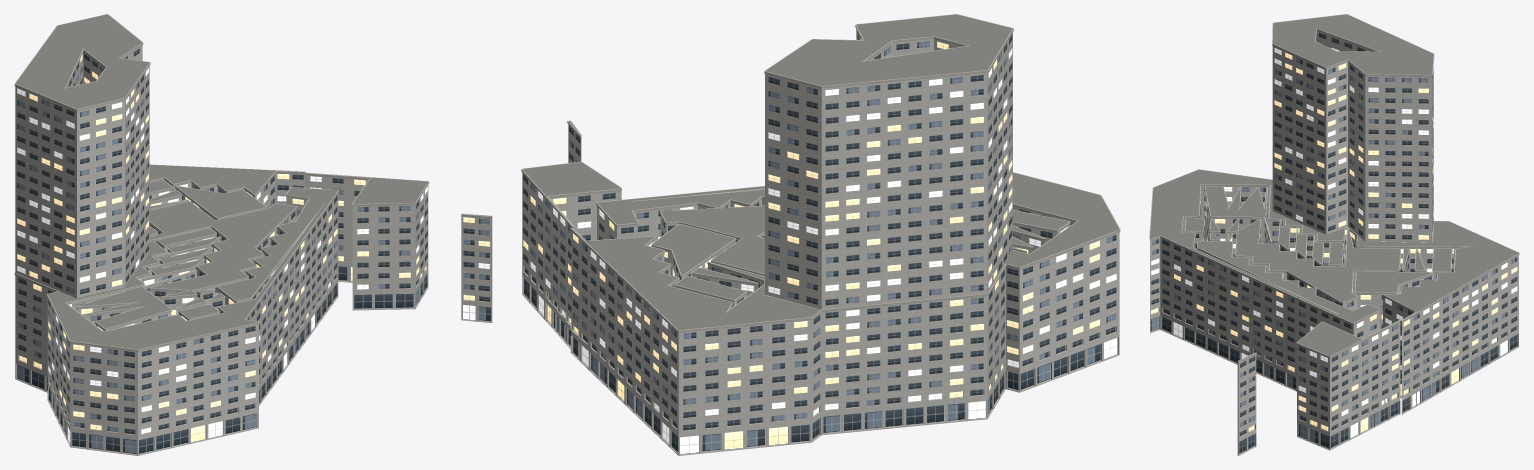
Rendered from migros_limmatplatz.glb.
The picture shows the model from 3 angles, left to right: view 1: azimuth 30°, elevation 25°; view 2: azimuth 150°, elevation 25°; view 3: azimuth 270°, elevation 25°; orthographic projection. The views are drawn at different scales.
Parts seen in each view (by area): view 1: migros_limmatplatz; view 2: migros_limmatplatz; view 3: migros_limmatplatz.
Boxes of the visible parts, x1,y1,x2,y2 form: migros_limmatplatz: (14, 14, 492, 455); migros_limmatplatz: (521, 14, 1120, 455); migros_limmatplatz: (1149, 14, 1519, 455).
Size of the model in its own units: 134 by 85.15 by 109.
3 materials, 3 textured.
